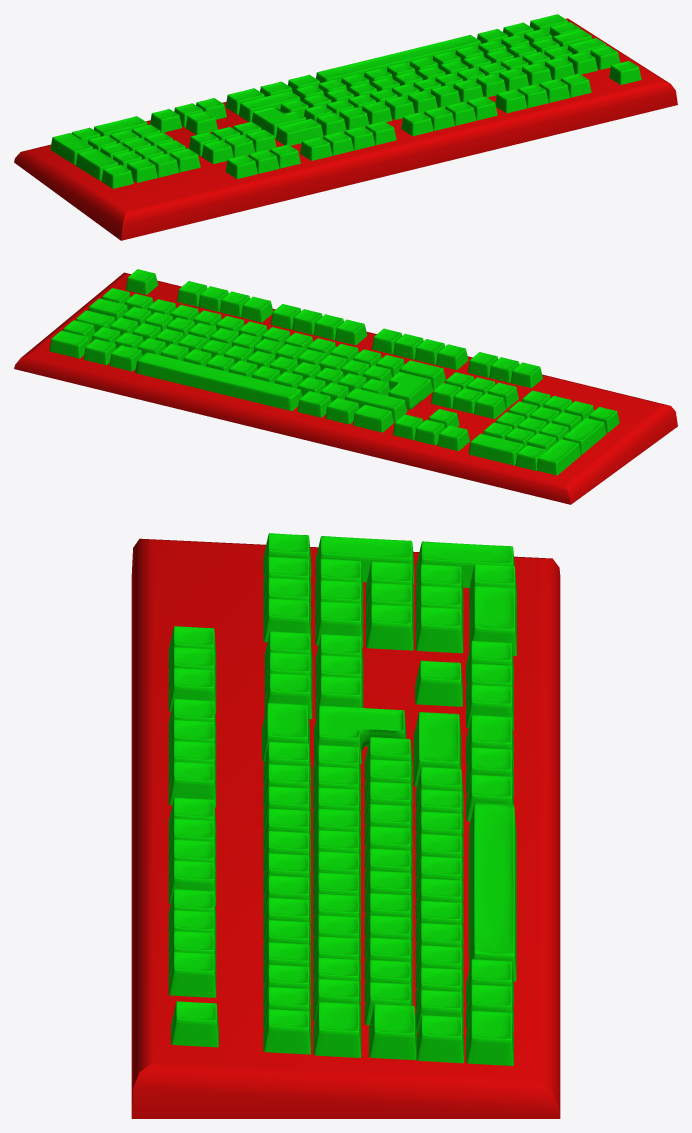
File: Computer Keyboard.fbx
3 views of the same model, one above another, from view 1: azimuth 30°, elevation 25°; view 2: azimuth 150°, elevation 25°; view 3: azimuth 270°, elevation 25° (orthographic). The views are drawn at different scales.
Visible parts, largest first — view 1: Computer Keyboard; view 2: Computer Keyboard; view 3: Computer Keyboard.
Part boxes in pixels (box(x1,y1,x2,y2)): Computer Keyboard: box(14, 14, 677, 240); Computer Keyboard: box(14, 269, 677, 504); Computer Keyboard: box(131, 533, 560, 1118).
Bounding box in the file's own units: 107 × 35.57 × 6.72.
